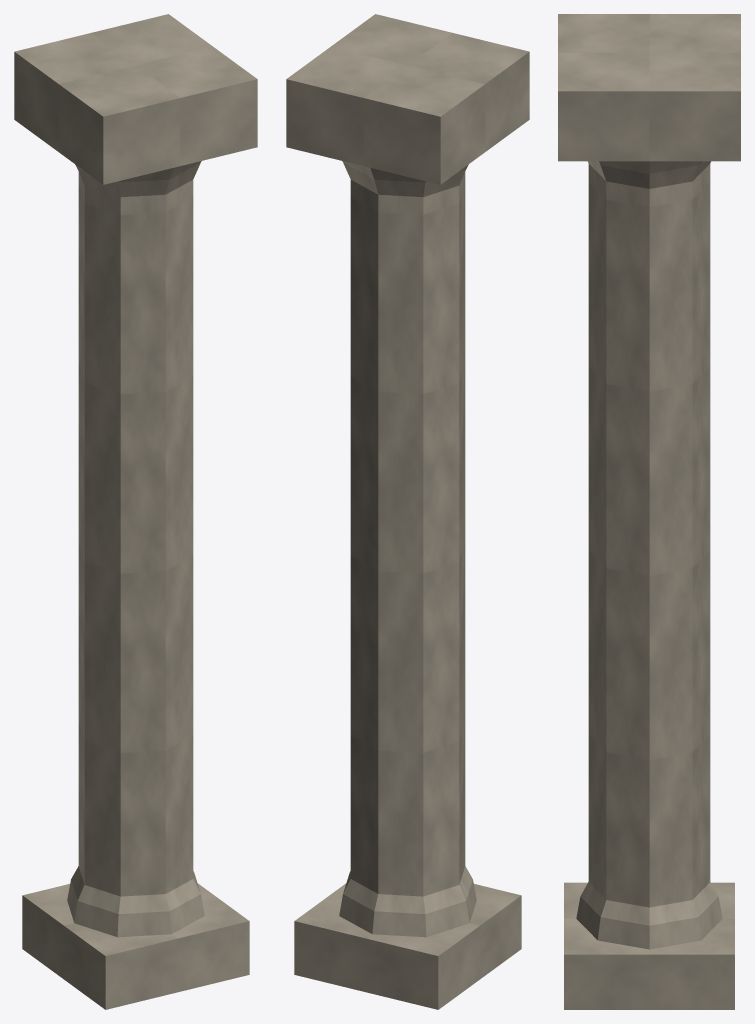
The model's file is Column_Stone_1_LOD1.gltf.
3 renders of one model, left to right at view 1: azimuth 30°, elevation 25°; view 2: azimuth 150°, elevation 25°; view 3: azimuth 270°, elevation 25°, orthographic. The views are drawn at different scales.
Parts seen in each view (by area): view 1: Column_Stone_1_LOD1; view 2: Column_Stone_1_LOD1; view 3: Column_Stone_1_LOD1.
Boxes of the visible parts, x1=… form: Column_Stone_1_LOD1: x1=14, y1=14, x2=257, y2=1009; Column_Stone_1_LOD1: x1=286, y1=14, x2=529, y2=1009; Column_Stone_1_LOD1: x1=558, y1=14, x2=740, y2=1009.
Size of the model in its own units: 0.9 by 5 by 0.9.
Materials: 1 (1 with a texture image).
